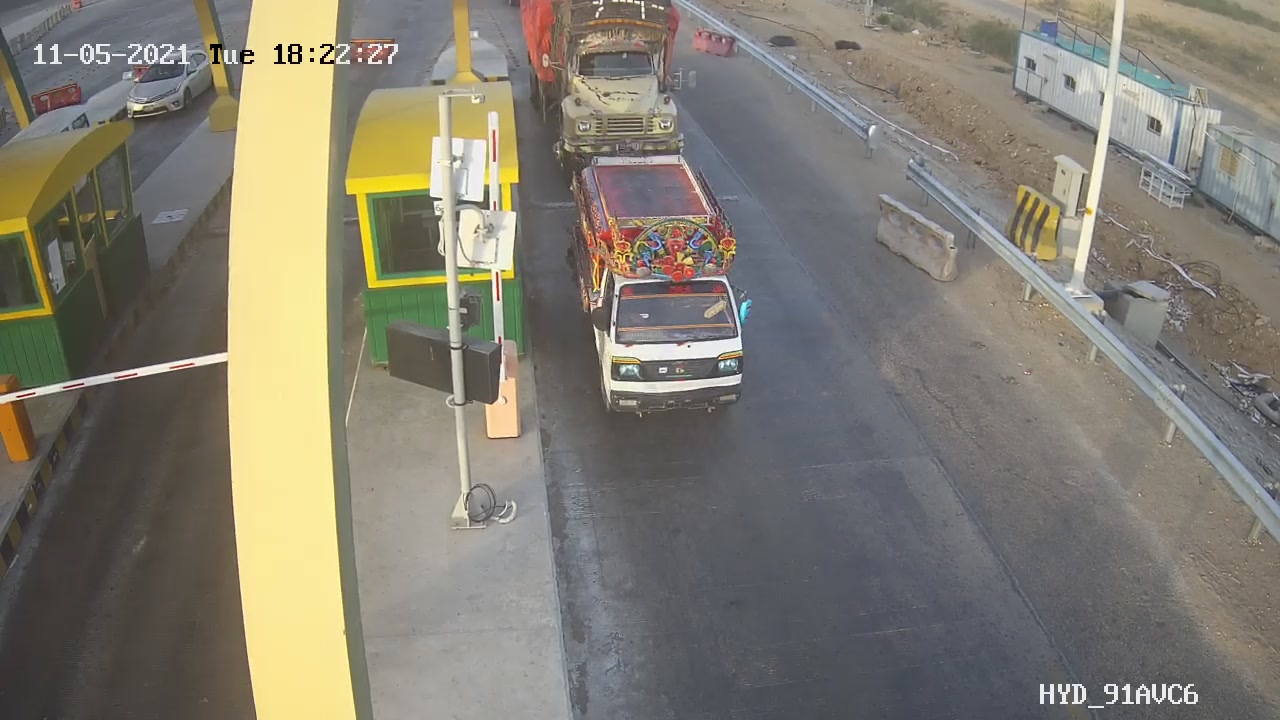F1: (568, 151, 760, 432)
